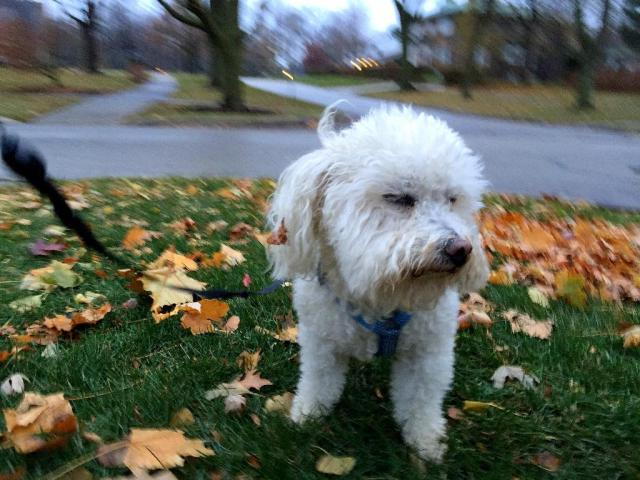Dog: (262, 98, 492, 468)
